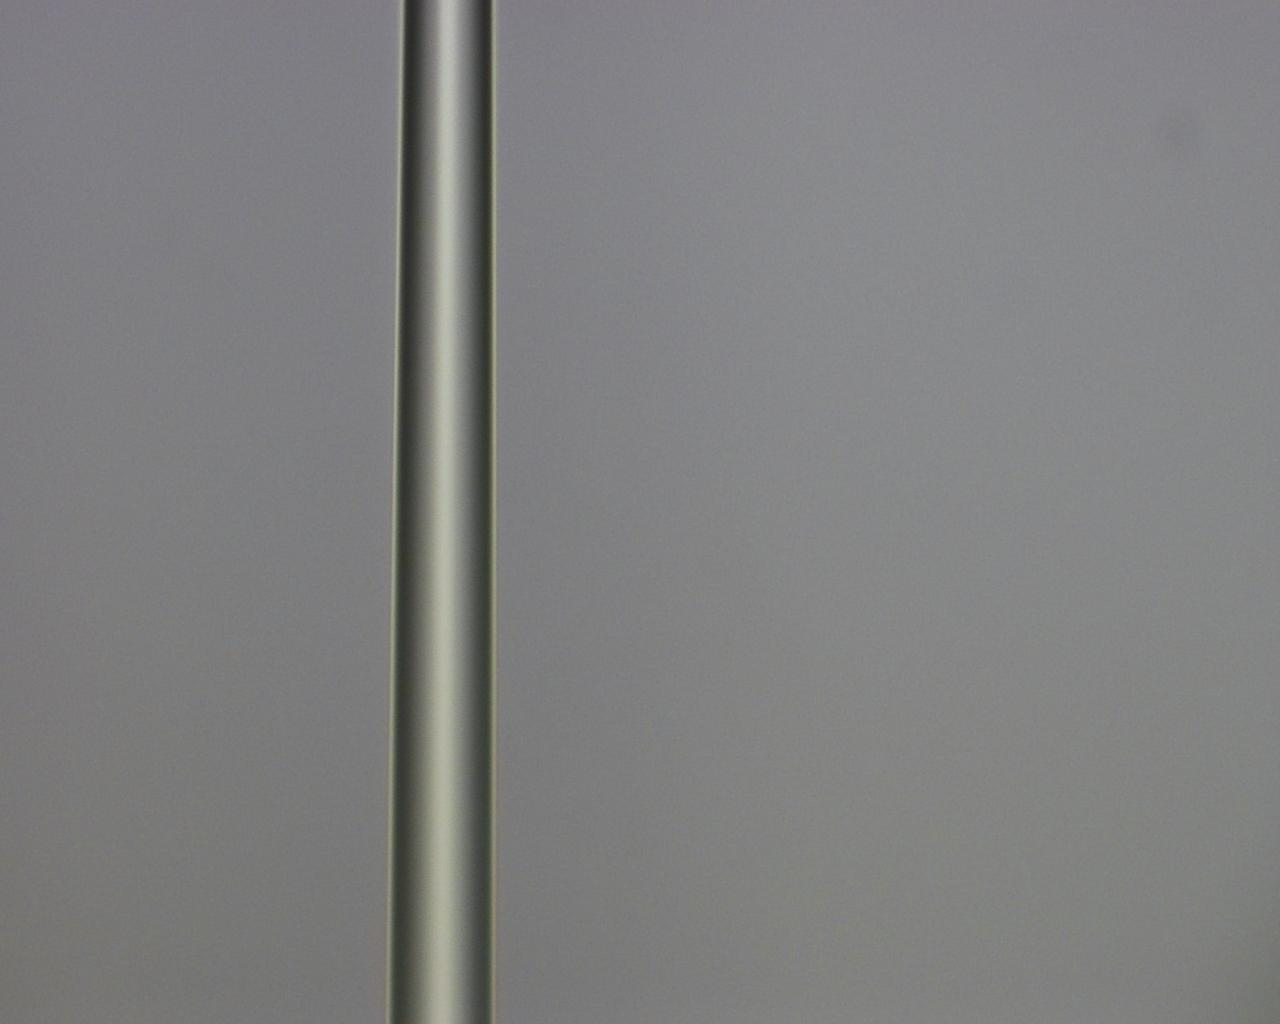fiber: (499, 358, 1199, 497), (212, 358, 379, 836)
